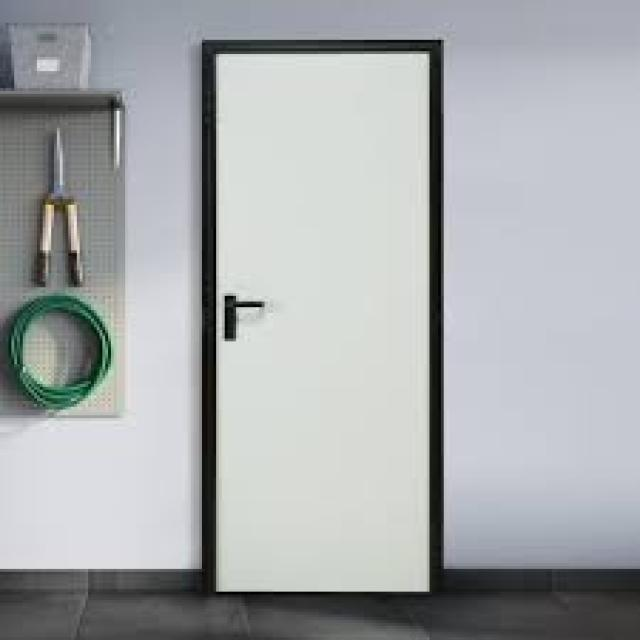door: (202, 37, 438, 594)
